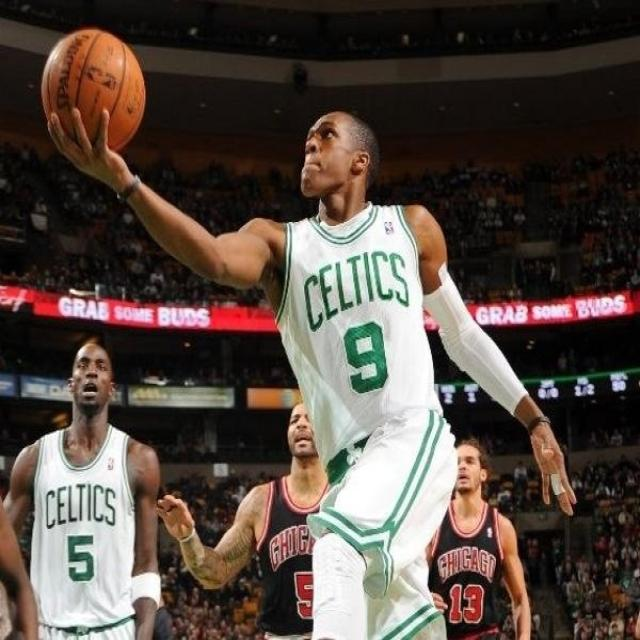basketball: (40, 28, 146, 154)
